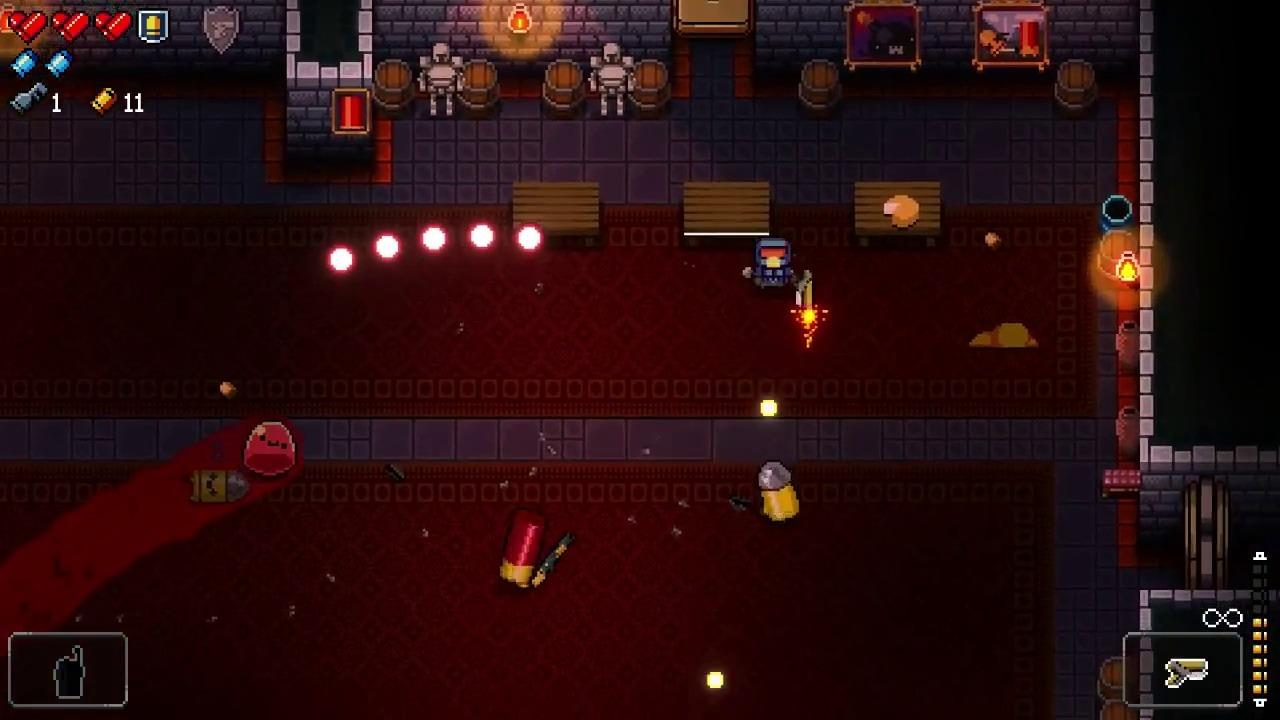blobulon_l: (242, 421, 298, 476)
bullet: (468, 223, 497, 253), (515, 226, 545, 252), (422, 223, 448, 250), (375, 233, 400, 261), (328, 246, 353, 271)
bullet_kin: (758, 462, 799, 522)
dead_apprentice_gunjurer: (967, 323, 1039, 347)
dead_bullet_kin: (186, 470, 251, 504)
locked_door: (1183, 475, 1232, 589)
player: (753, 238, 792, 287)
red_shotgun_kin: (500, 510, 547, 589)
table: (683, 182, 771, 250), (513, 182, 598, 248), (855, 182, 940, 247)
